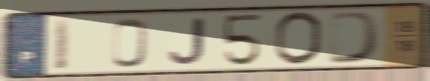0: (111, 17, 150, 69)
5: (221, 12, 265, 68)
D: (325, 10, 384, 66)
I: (51, 16, 74, 73)
J: (166, 16, 207, 66)
O: (273, 10, 325, 68)
